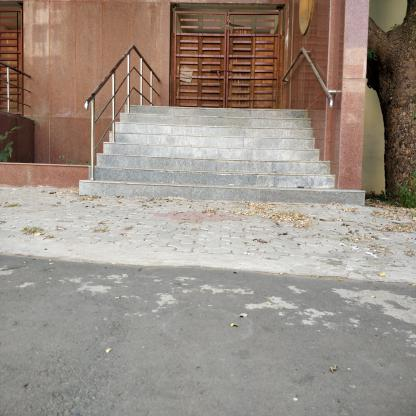stairs: (122, 114, 312, 207)
